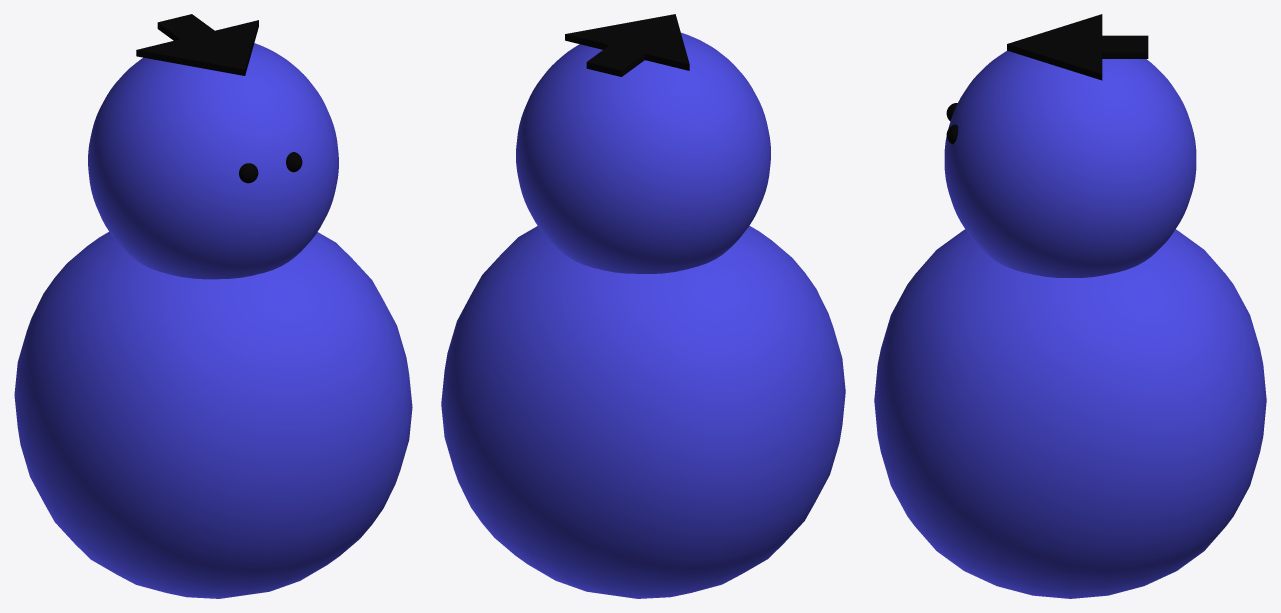
Rendered from 1purple.obj.
3 renders of one model, left to right at view 1: azimuth 30°, elevation 25°; view 2: azimuth 150°, elevation 25°; view 3: azimuth 270°, elevation 25°, orthographic.
Parts seen in each view (by area): view 1: Cube.002_Cube.005; view 2: Cube.002_Cube.005; view 3: Cube.002_Cube.005.
Part boxes in pixels (bbox=[...]): Cube.002_Cube.005: bbox=[14, 14, 412, 598]; Cube.002_Cube.005: bbox=[441, 14, 845, 598]; Cube.002_Cube.005: bbox=[874, 14, 1266, 598].
Size of the model in its own units: 0.3205 by 0.4814 by 0.3205.
